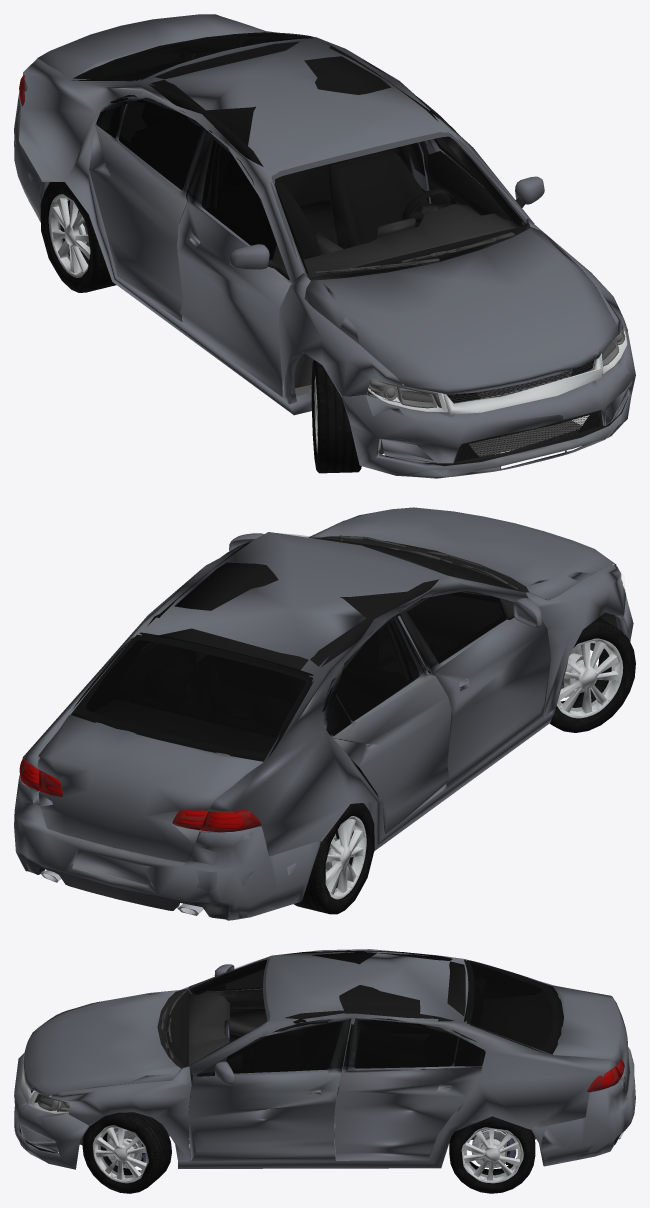
File: grand-sedan-lod3.glb
3 renders of one model, top to bottom at view 1: azimuth 30°, elevation 25°; view 2: azimuth 150°, elevation 25°; view 3: azimuth 270°, elevation 25°, orthographic. The views are drawn at different scales.
Visible parts, largest first — view 1: sedan-unibody_65, hood_60, windshield_102, bumper-front_8, door-front-r_17, door-rear-r_23, roof-pillars-interior_64, fender-front-r_33, front-seat-backrest_39, dashboard_13, trunk_99, door-rear-window-glass-r_27 (+22 smaller); view 2: sedan-unibody_65, glass-rear_42, trunk_99, bumper-rear_10, door-front-r_17, hood_60, door-rear-r_23, roof-pillars-interior_64, fender-front-r_33, door-rear-window-glass-r_27, door-front-window-glass-r_19, generic-wheel.001_126 (+8 smaller); view 3: sedan-unibody_65, door-front-l_16, door-rear-l_22, hood_60, windshield_102, glass-rear_42, fender-front-l_32, roof-pillars-interior_64, bumper-rear_10, trunk_99, door-rear-window-glass-l_26, door-front-window-glass-l_18 (+14 smaller).
Part boxes in pixels (x1,y1,x2,y2): sedan-unibody_65: (19, 17, 534, 415); hood_60: (304, 227, 618, 394); windshield_102: (271, 132, 527, 276); bumper-front_8: (342, 328, 635, 478); door-front-r_17: (177, 130, 292, 397); door-rear-r_23: (89, 94, 208, 321); roof-pillars-interior_64: (149, 39, 524, 281); fender-front-r_33: (278, 273, 404, 404); front-seat-backrest_39: (328, 149, 428, 248); dashboard_13: (303, 204, 521, 276); trunk_99: (37, 14, 263, 78); door-rear-window-glass-r_27: (118, 99, 201, 190); sedan-unibody_65: (20, 532, 553, 855); glass-rear_42: (71, 632, 313, 761); trunk_99: (37, 714, 263, 862); bumper-rear_10: (14, 774, 320, 920); door-front-r_17: (399, 590, 551, 788); hood_60: (308, 507, 616, 600); door-rear-r_23: (323, 615, 451, 833); roof-pillars-interior_64: (147, 541, 466, 673); fender-front-r_33: (526, 564, 625, 717); door-rear-window-glass-r_27: (336, 620, 419, 721); door-front-window-glass-r_19: (407, 592, 505, 663); generic-wheel.001_126: (557, 638, 623, 718); sedan-unibody_65: (178, 949, 621, 1168); door-front-l_16: (188, 1019, 351, 1161); door-rear-l_22: (335, 1018, 485, 1160); hood_60: (22, 990, 180, 1096); windshield_102: (166, 958, 269, 1066); glass-rear_42: (464, 959, 563, 1054); fender-front-l_32: (48, 1066, 191, 1162); roof-pillars-interior_64: (189, 950, 465, 1094); bumper-rear_10: (531, 1047, 635, 1166); trunk_99: (552, 985, 629, 1096); door-rear-window-glass-l_26: (354, 1020, 457, 1068); door-front-window-glass-l_18: (226, 1021, 342, 1073).
Bounding box in the file's own units: 2.06 × 1.43 × 4.77.
Materials: 21 (7 with a texture image).
